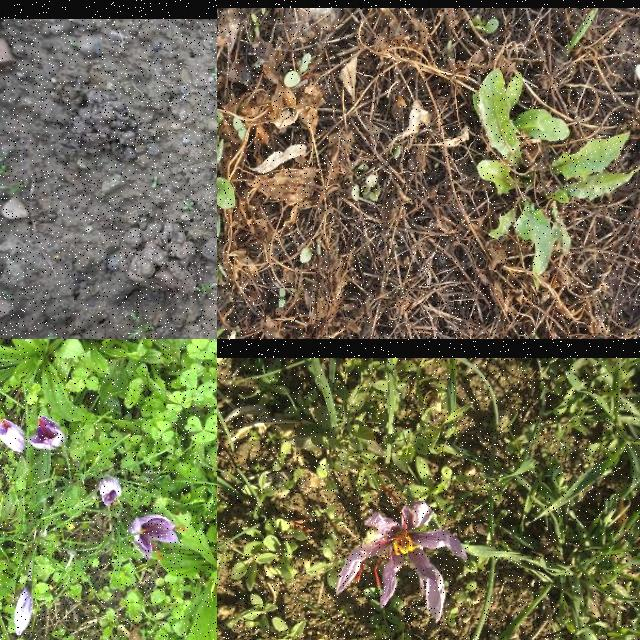flower: (335, 506, 469, 622), (131, 516, 189, 560), (30, 416, 66, 452), (14, 584, 34, 638), (0, 418, 27, 455), (100, 476, 122, 506)
